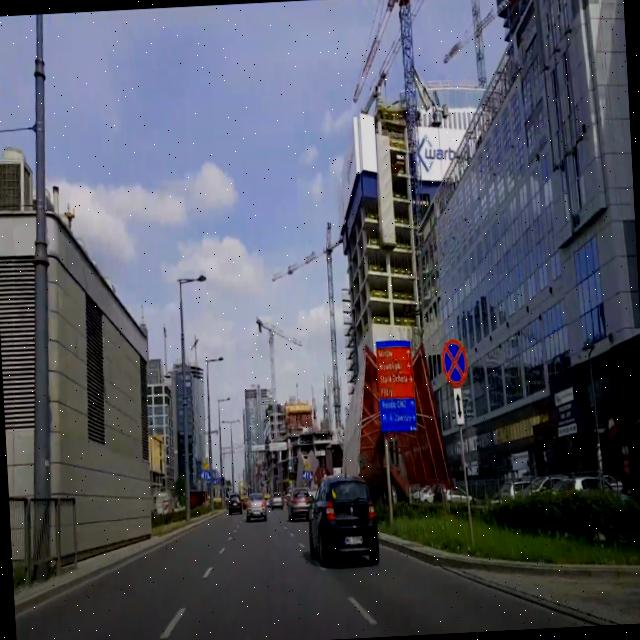Zakaz zatrzymywania sie: (440, 338, 470, 388)
